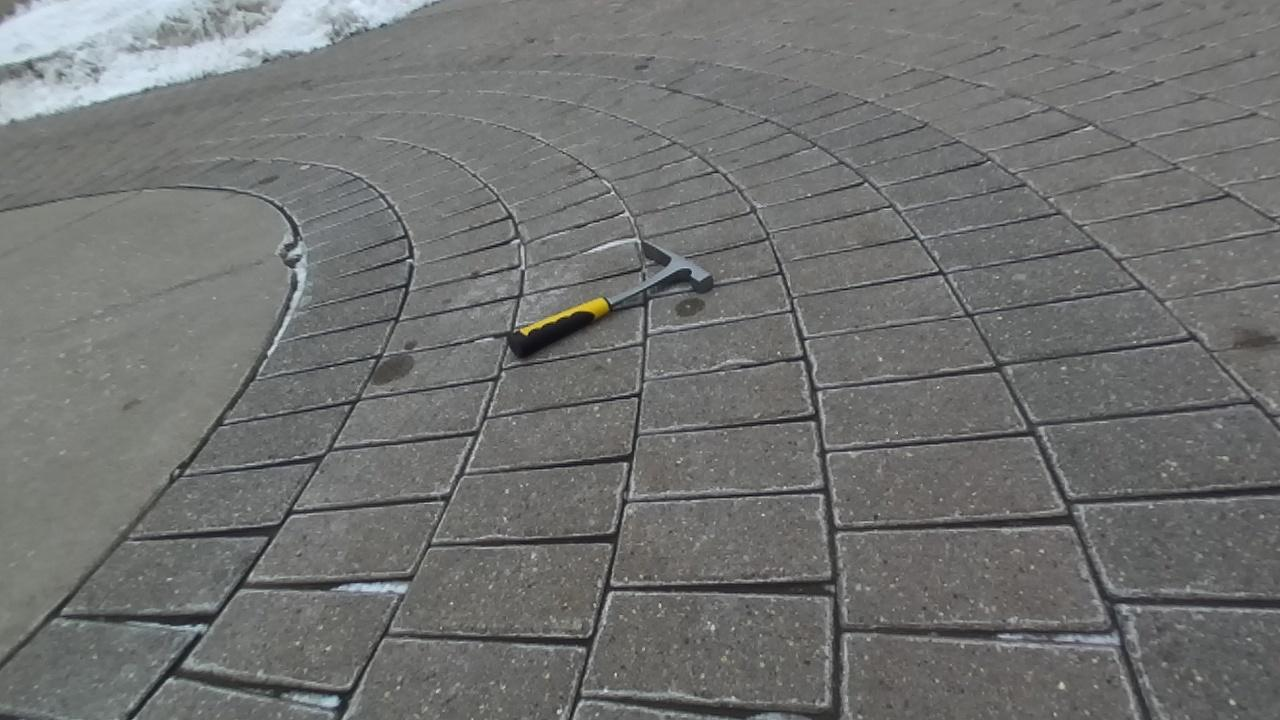pick: (507, 240, 713, 357)
